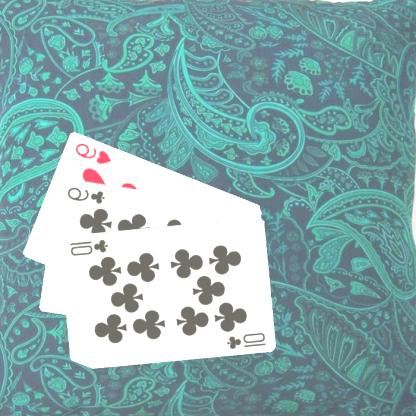10C: (225, 329, 269, 351), (68, 236, 111, 257)
9C: (66, 184, 108, 205)
9H: (74, 140, 114, 165)
